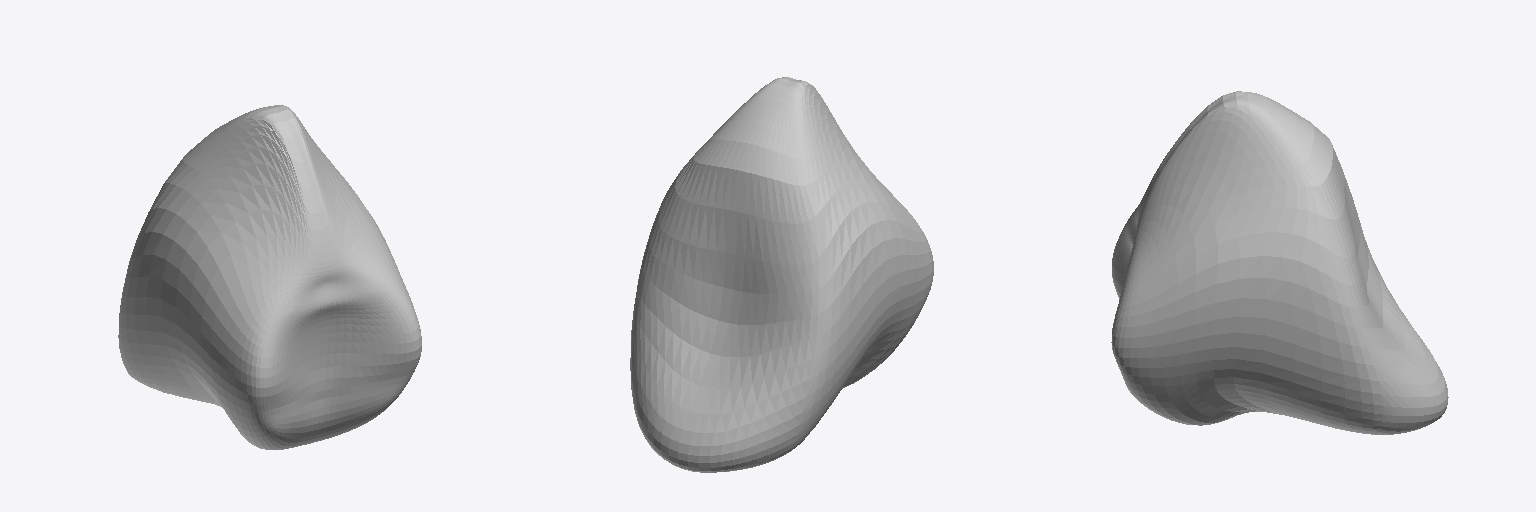
Rendered from vertabrae20.obj.
3 views of the same model, side by side, from view 1: azimuth 30°, elevation 25°; view 2: azimuth 150°, elevation 25°; view 3: azimuth 270°, elevation 25° (orthographic).
Visible parts, largest first — view 1: Cube.128_Cube.129; view 2: Cube.128_Cube.129; view 3: Cube.128_Cube.129.
Boxes of the visible parts, box(x1,y1,x2,y2) form: Cube.128_Cube.129: box(118, 105, 421, 449); Cube.128_Cube.129: box(630, 77, 933, 472); Cube.128_Cube.129: box(1111, 91, 1448, 434).
Size of the model in its own units: 0.0857 by 0.1287 by 0.1229.